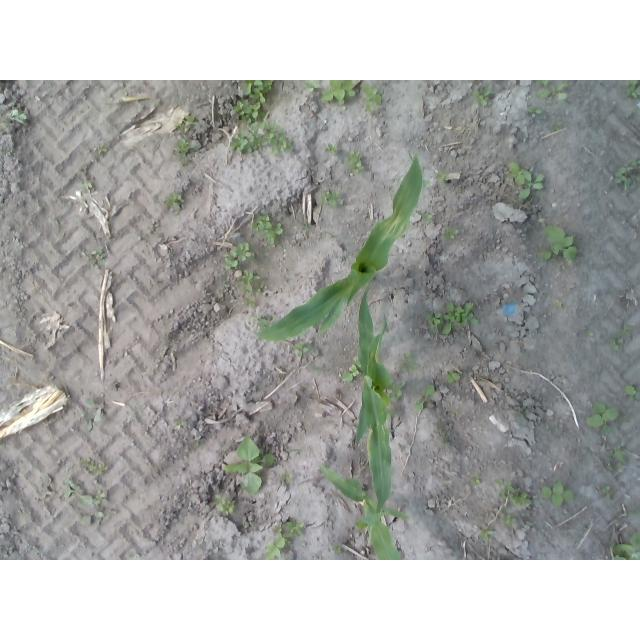Maize: (243, 157, 424, 344), (320, 376, 409, 561), (353, 277, 392, 444)
Weeds: (225, 438, 276, 497), (230, 121, 294, 155), (537, 224, 580, 262), (508, 161, 545, 199), (443, 301, 480, 336), (585, 401, 620, 435), (494, 478, 533, 506), (237, 269, 264, 308), (252, 214, 284, 246), (541, 480, 575, 508), (232, 98, 267, 124), (265, 524, 290, 560), (321, 80, 356, 105), (223, 242, 253, 271), (61, 483, 93, 510), (611, 531, 640, 560), (613, 159, 640, 190), (239, 81, 275, 104), (536, 80, 571, 102), (83, 397, 105, 431), (360, 84, 383, 113), (605, 445, 628, 472), (172, 138, 193, 167), (609, 325, 632, 351), (416, 384, 436, 410), (213, 494, 236, 516), (0, 109, 28, 127), (80, 457, 108, 475), (473, 86, 495, 108), (319, 189, 345, 207), (250, 313, 274, 332), (82, 249, 106, 268), (342, 360, 361, 383), (345, 151, 364, 173), (79, 510, 104, 526), (283, 521, 304, 540), (398, 353, 418, 372), (165, 192, 184, 212), (176, 116, 198, 133), (499, 507, 518, 526), (438, 423, 451, 450), (386, 382, 405, 400), (623, 80, 640, 99), (292, 340, 312, 356), (425, 312, 443, 329), (478, 524, 494, 541), (624, 384, 640, 400), (304, 80, 322, 92), (147, 223, 161, 238), (526, 106, 543, 118), (445, 228, 460, 241), (444, 372, 460, 384), (323, 143, 339, 154), (94, 493, 106, 506), (94, 145, 108, 156), (280, 473, 294, 484), (602, 485, 612, 499), (437, 172, 451, 182), (471, 474, 482, 486), (76, 181, 92, 189), (552, 121, 564, 131), (422, 214, 435, 223), (628, 508, 640, 517), (516, 407, 525, 418), (176, 419, 185, 429), (332, 543, 341, 553), (163, 337, 171, 347), (422, 180, 431, 188), (302, 223, 311, 230), (586, 330, 594, 337), (292, 449, 300, 455), (453, 410, 460, 416), (244, 522, 252, 527), (614, 517, 620, 523), (56, 220, 61, 227)
